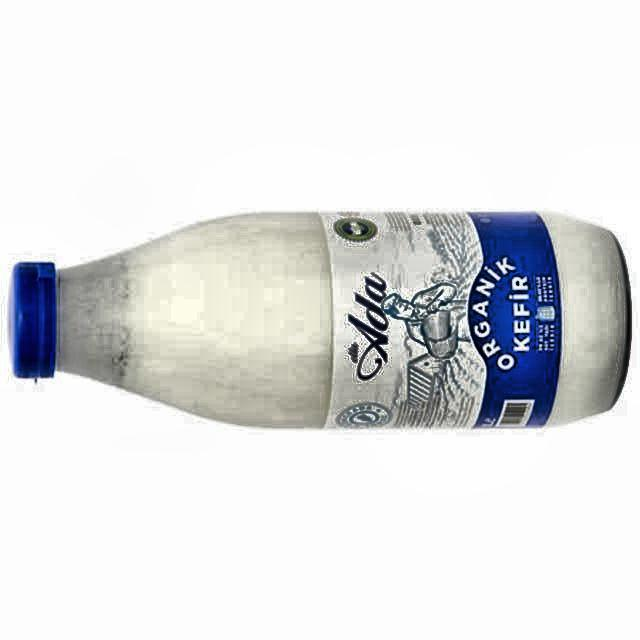plastic: (10, 212, 630, 428)
